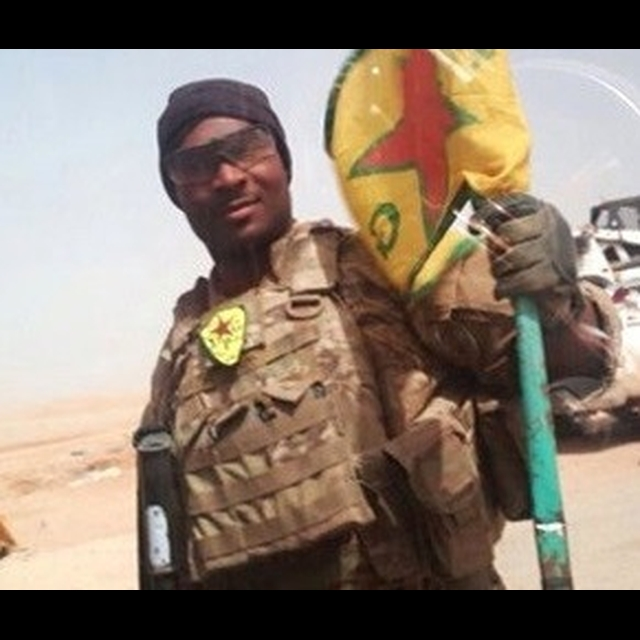YPG: (196, 305, 251, 373)
